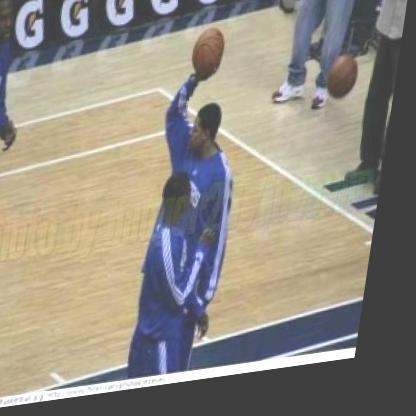basketball: (186, 29, 237, 91), (327, 59, 368, 115)
